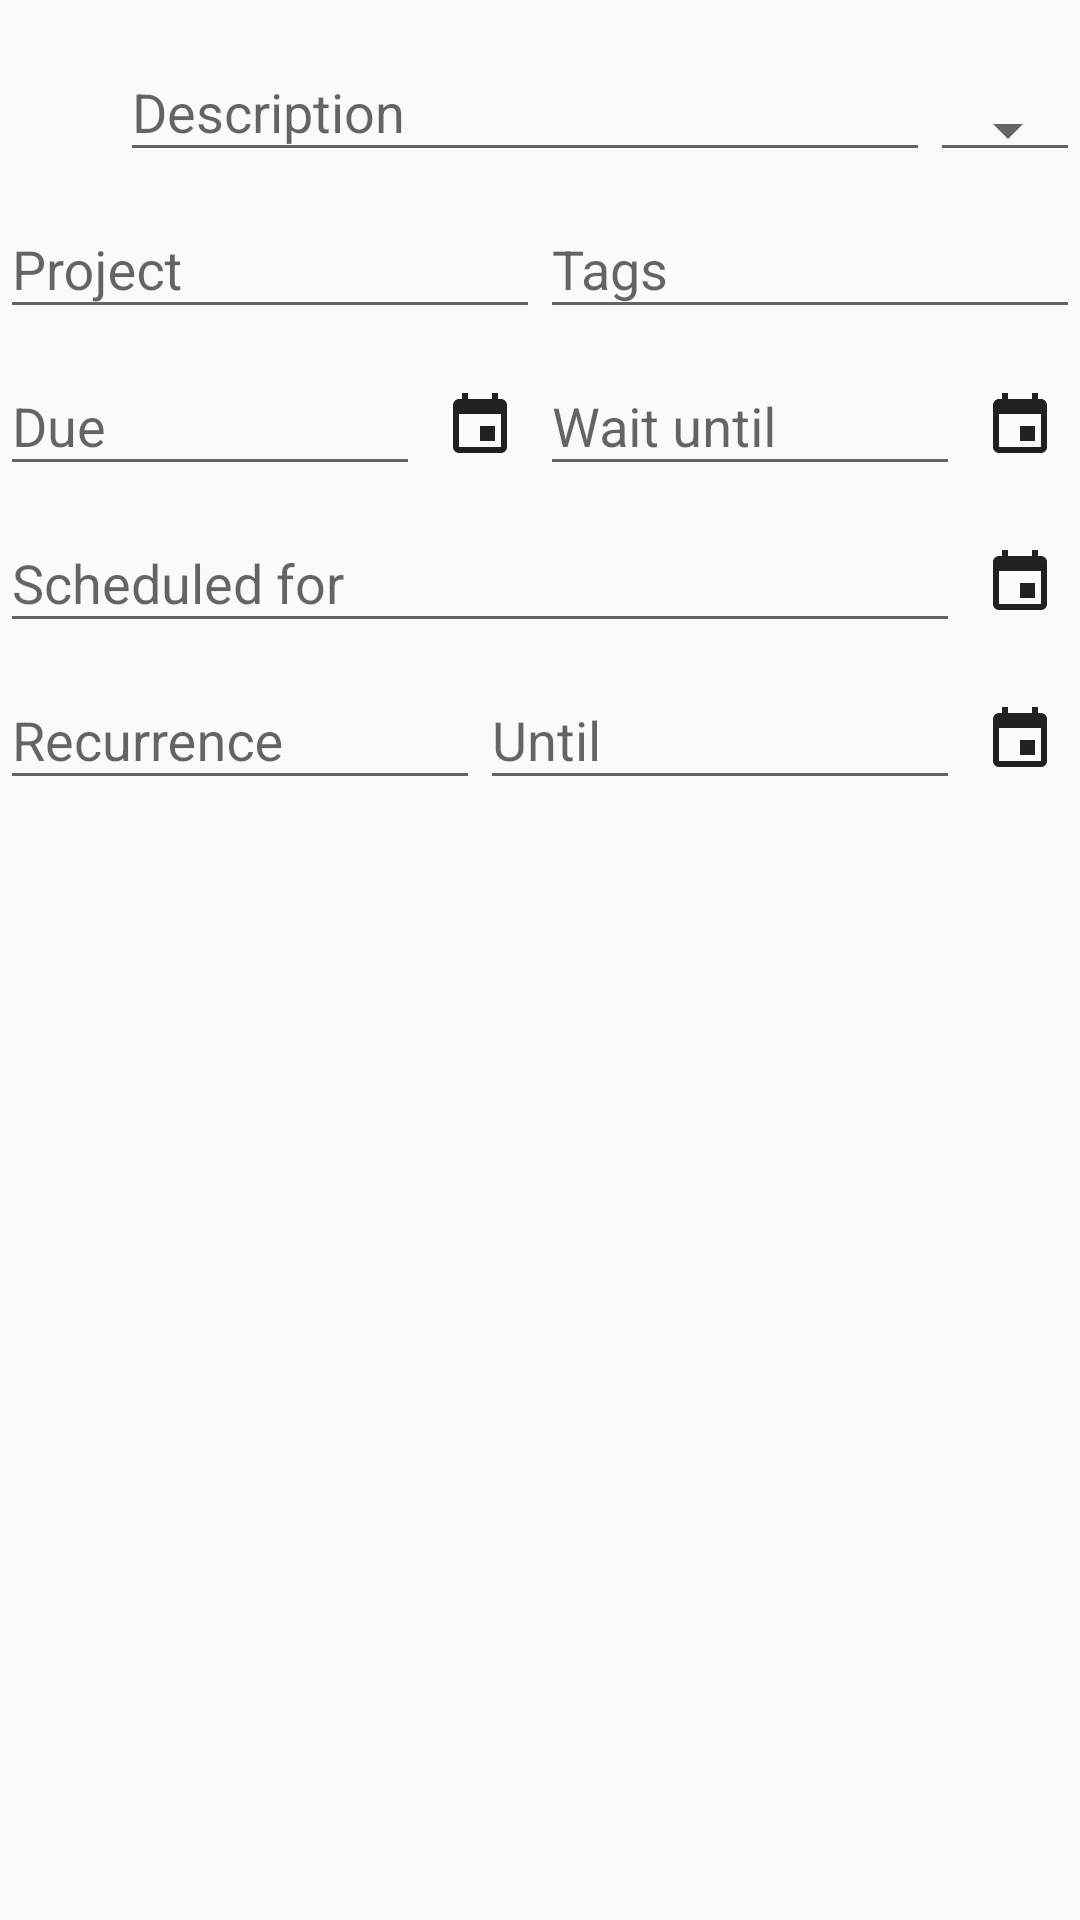

Icon click points for this 1080px x 1920px phone screenshot, format (x=x, y=y):
date: (x=480, y=423), (x=1020, y=423), (x=1020, y=580), (x=1020, y=737)
